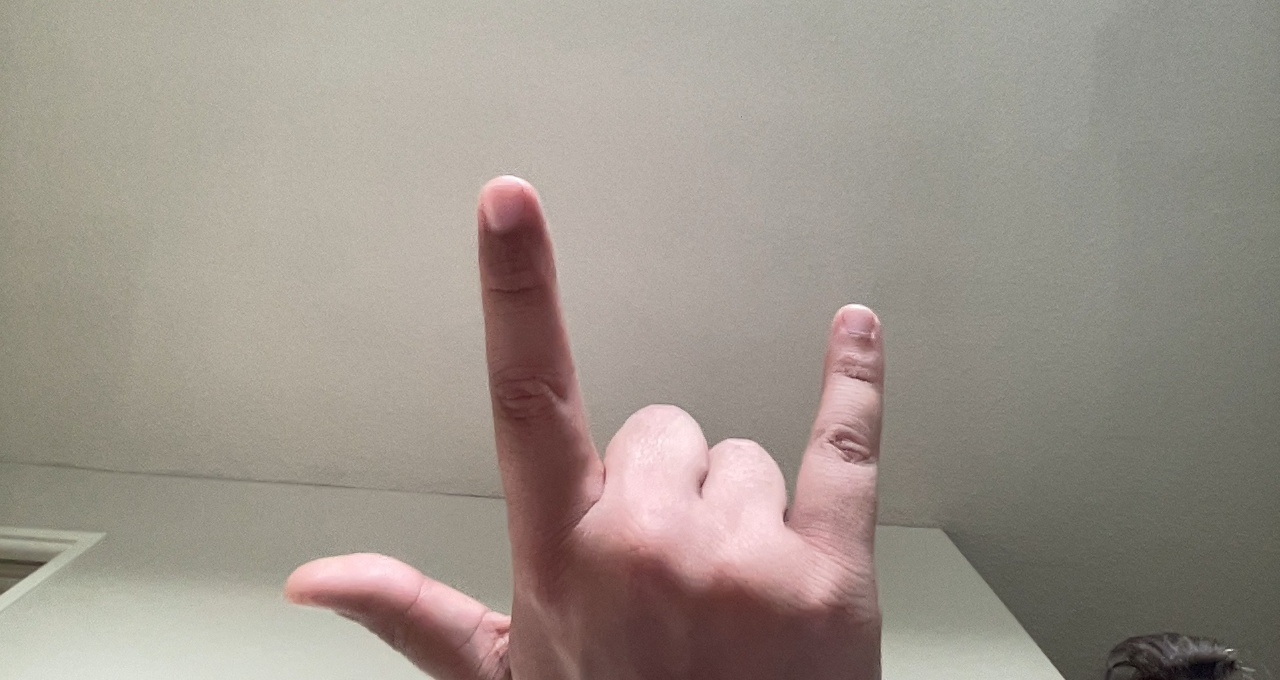rockon sign: (254, 158, 904, 679)
